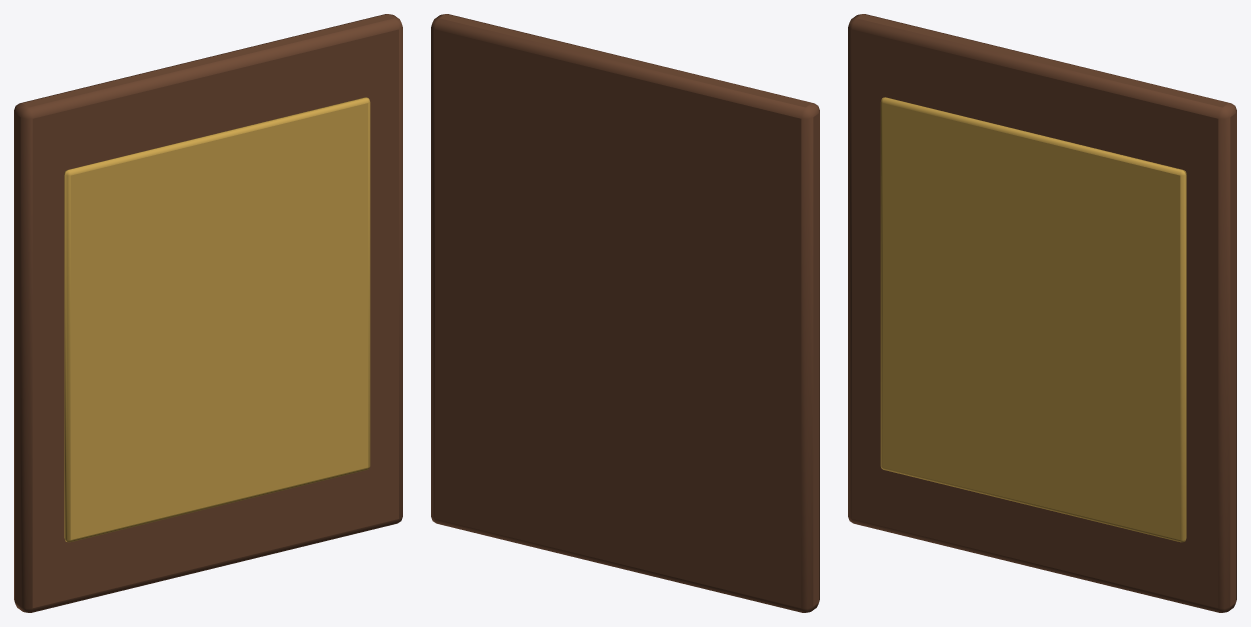
Rendered from plaque.fbx.
3 renders of one model, left to right at view 1: azimuth 30°, elevation 25°; view 2: azimuth 150°, elevation 25°; view 3: azimuth 330°, elevation 25°, orthographic.
Visible parts, largest first — view 1: Plaque; view 2: Plaque; view 3: Plaque.
Boxes of the visible parts, box(x1,y1,x2,y2) form: Plaque: box(14, 14, 402, 612); Plaque: box(431, 14, 819, 612); Plaque: box(848, 14, 1236, 612).
Bounding box in the file's own units: 0.3 × 0.38 × 0.025.
